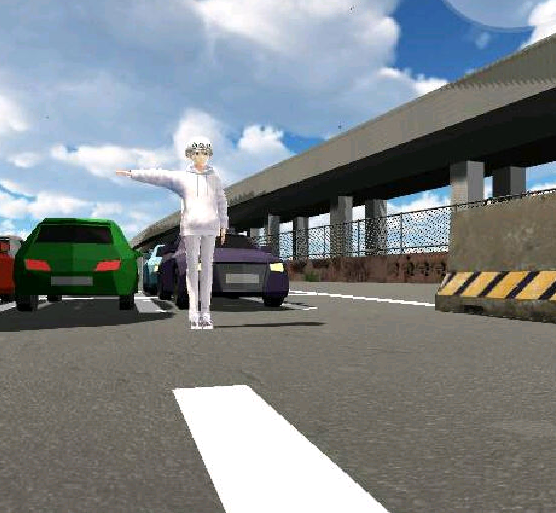singleP_left: (115, 130, 228, 330)
